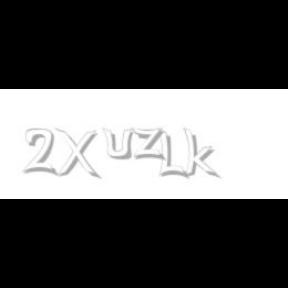2: (22, 128, 56, 176)
L: (158, 128, 186, 180)
X: (54, 128, 98, 180)
k: (183, 128, 221, 180)
u: (102, 128, 138, 160)
z: (132, 128, 168, 160)
